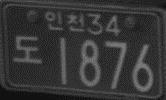1: (57, 36, 70, 86)
3: (86, 12, 102, 35)
4: (104, 14, 120, 37)
6: (130, 43, 155, 93)
7: (103, 39, 129, 90)
8: (77, 38, 102, 86)
도: (12, 33, 43, 66)
인천_O: (45, 9, 84, 33)
